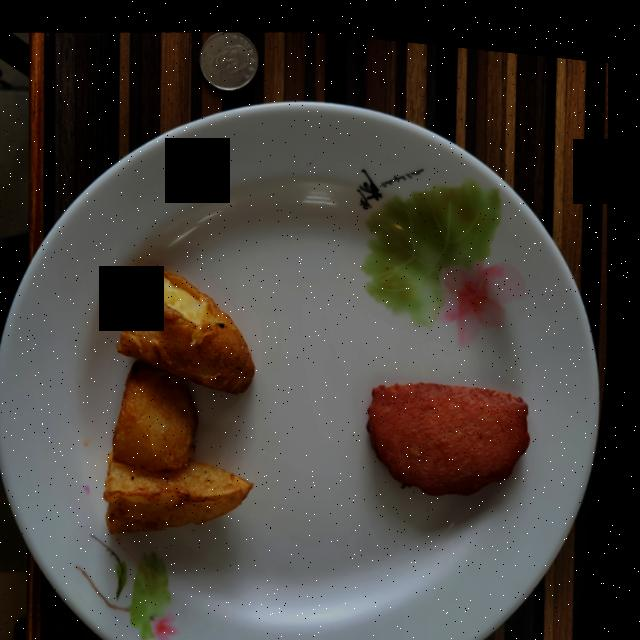Spam: (375, 372, 538, 484)
coin: (199, 26, 258, 85)
fried potato: (114, 265, 262, 529)
